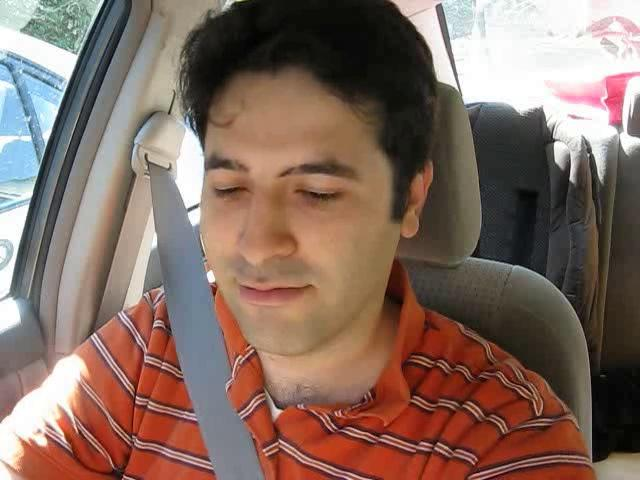close_eyeL: (202, 169, 261, 211)
close_eyeR: (280, 172, 361, 215)
no_yawn: (215, 262, 327, 323)
